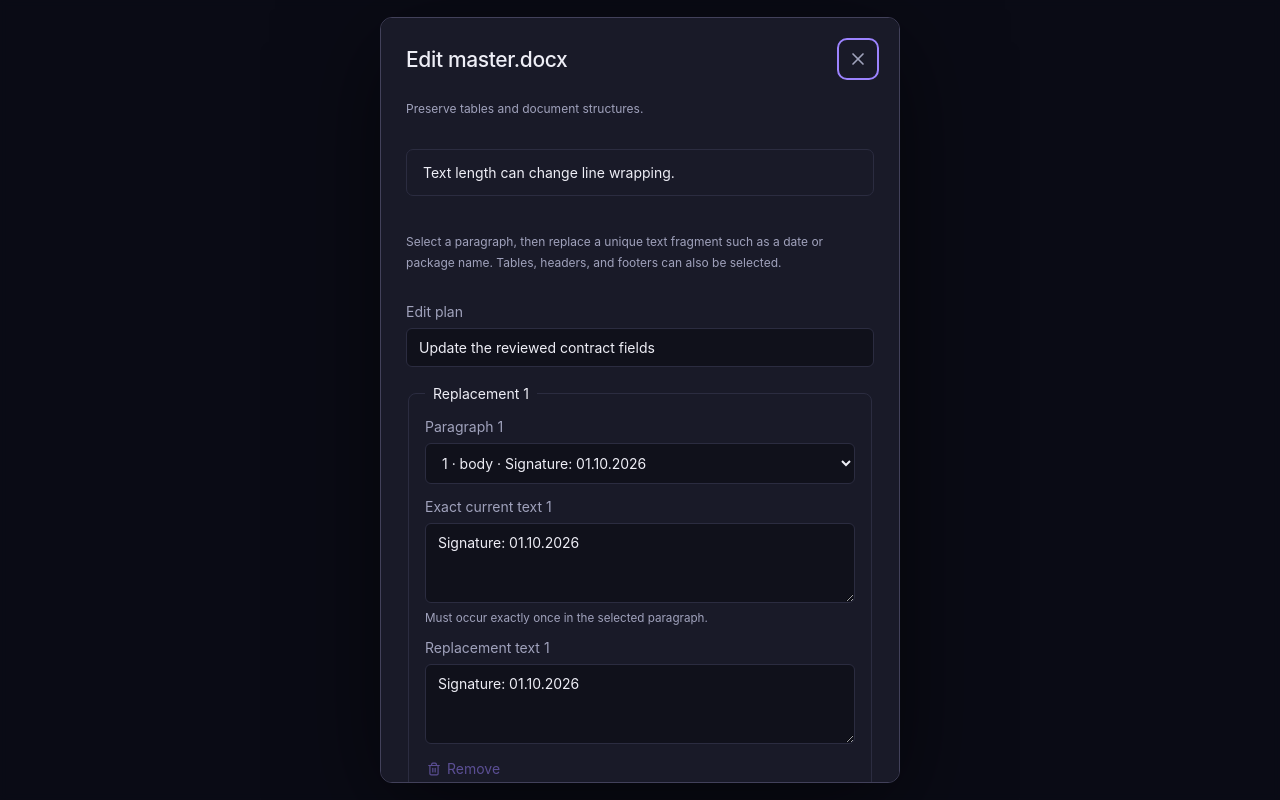
Scenario: Targeted DOCX editing › retains the requested spans when the backend rejects an ambiguous match
Replace the text in the text box labelled "Replacement text 1" with "Signature: TEST" at (640, 704), box [425,664,855,744]
(page scrolled)
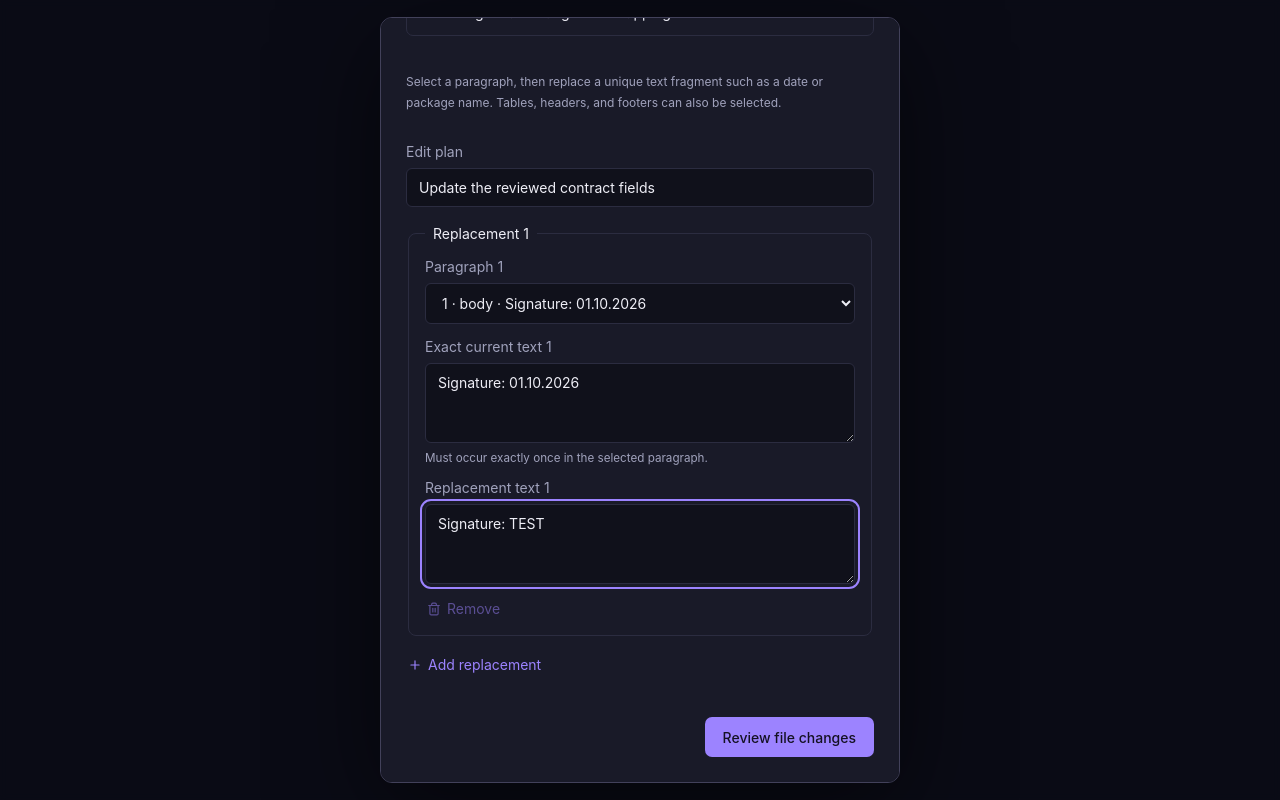
Click the button "Review file changes".
click(789, 737)  # box [705,717,874,757]
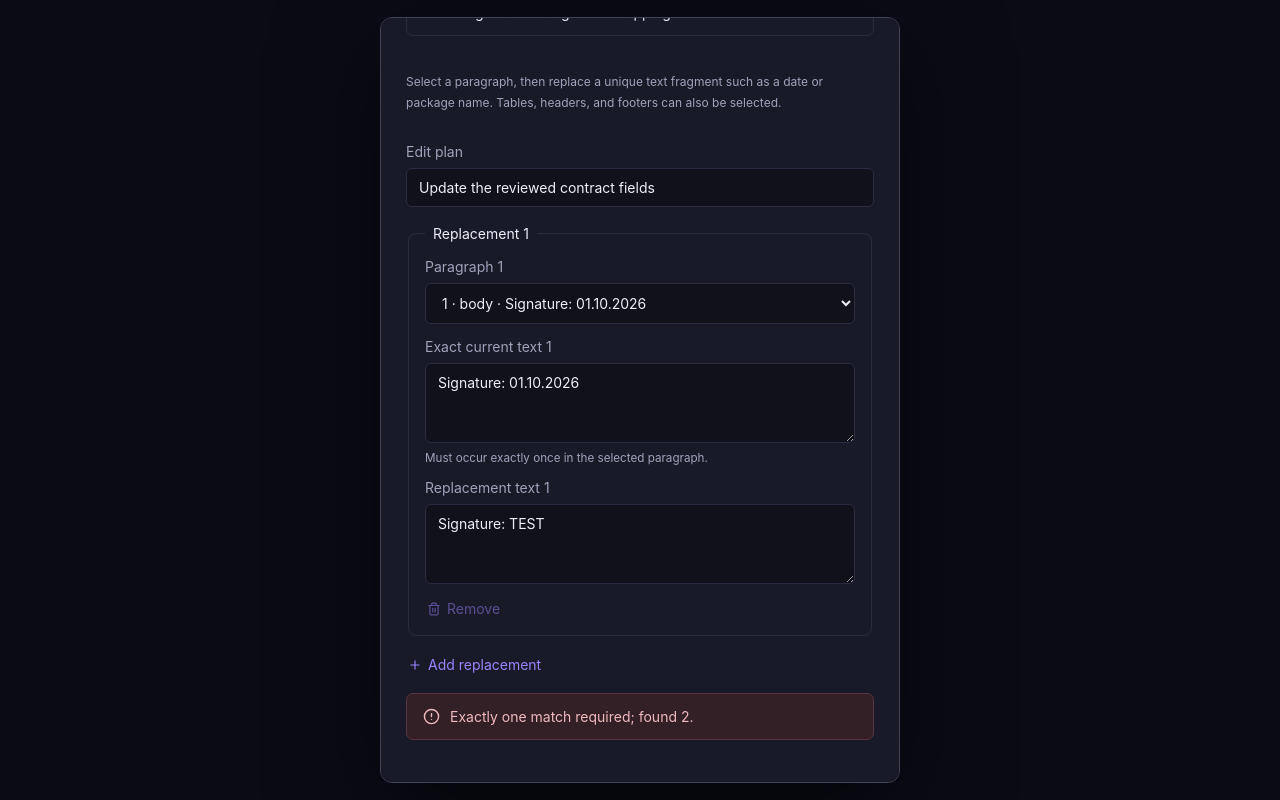
Expected: the message shows "found 2", [450,708,694,725]
